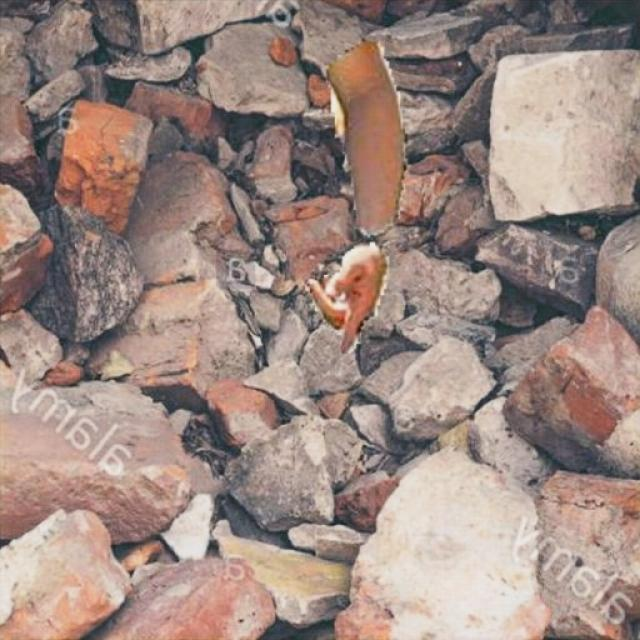Person in Rubble: (308, 41, 407, 352)
